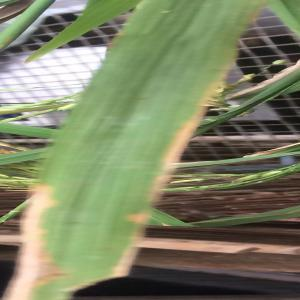2 BacterialBlight: (34, 46, 216, 295)
